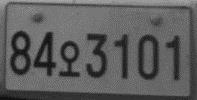0: (136, 33, 160, 80)
1: (113, 31, 129, 81), (165, 34, 181, 81)
3: (85, 32, 107, 77)
4: (31, 30, 56, 76)
8: (8, 29, 31, 75)
오: (58, 39, 82, 78)
